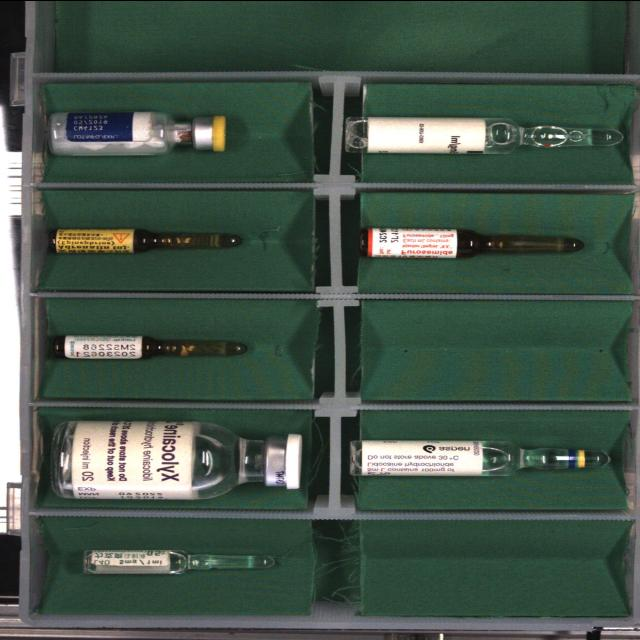Vials: (51, 420, 302, 499), (50, 111, 226, 154)
